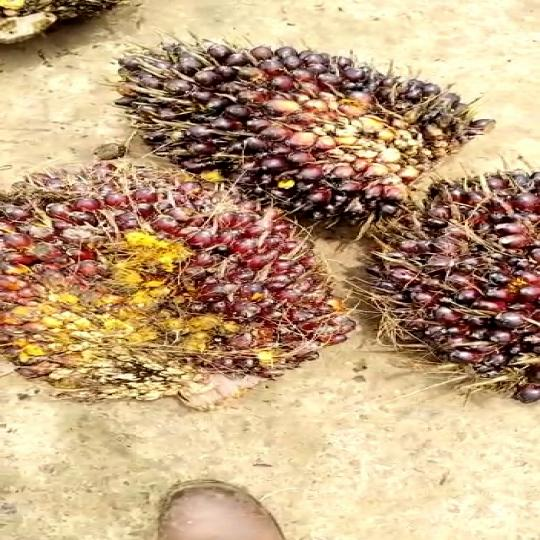kurang masak: (0, 164, 344, 416), (117, 36, 498, 223), (350, 163, 540, 407)
